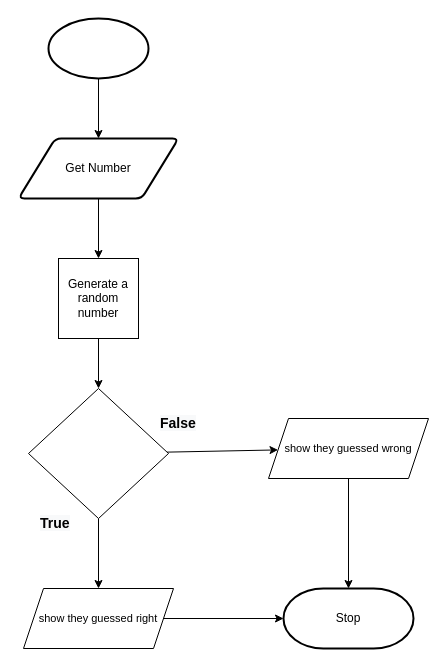
Some shapes in this 446 by 666 pixel diagram are drawn without their labels. The shapes that lost their labels are listed below. From the top down, each one's centre as x and y in pixels, then its label:
At pixel 98 48: "Start".
At pixel 98 453: "If Number equals hidden_number".
